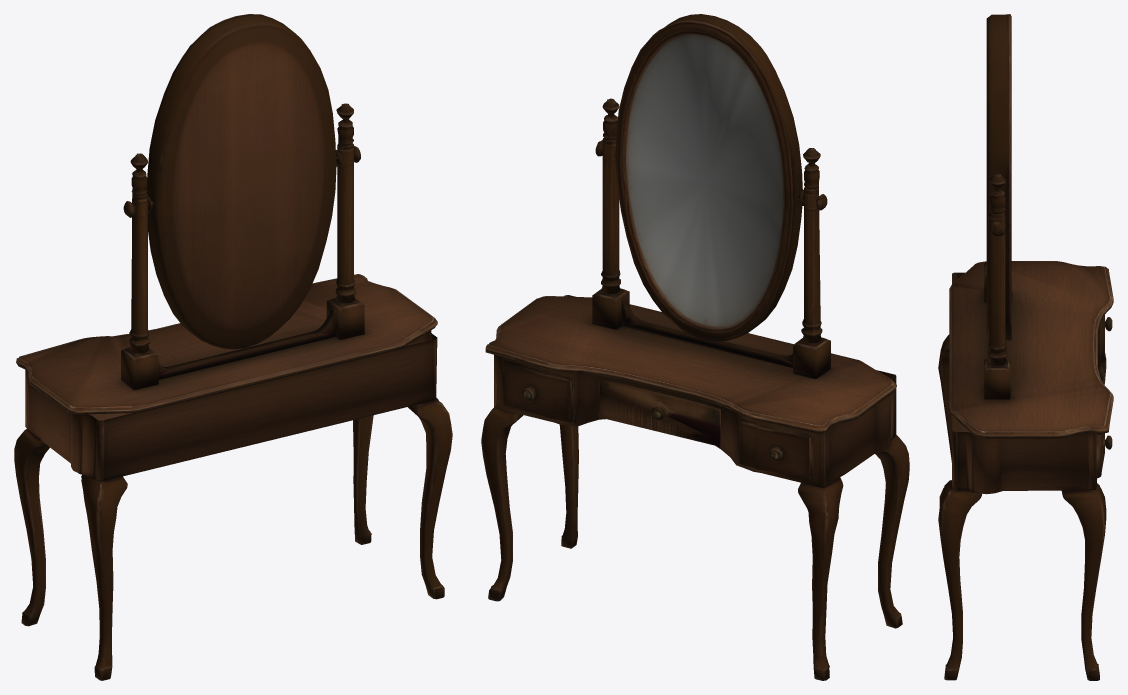
File: vanity-oval-mirror-v01.glb
3 renders of one model, left to right at view 1: azimuth 30°, elevation 25°; view 2: azimuth 150°, elevation 25°; view 3: azimuth 270°, elevation 25°, orthographic. The views are drawn at different scales.
Visible parts, largest first — view 1: tripo_node_4241cdf0-7561-45fa-80f2-d49ba0862418; view 2: tripo_node_4241cdf0-7561-45fa-80f2-d49ba0862418; view 3: tripo_node_4241cdf0-7561-45fa-80f2-d49ba0862418.
Boxes of the visible parts, x1=… form: tripo_node_4241cdf0-7561-45fa-80f2-d49ba0862418: x1=14, y1=14, x2=452, y2=680; tripo_node_4241cdf0-7561-45fa-80f2-d49ba0862418: x1=481, y1=14, x2=909, y2=680; tripo_node_4241cdf0-7561-45fa-80f2-d49ba0862418: x1=938, y1=14, x2=1113, y2=680.
Size of the model in its own units: 1.06 by 1.65 by 0.4553.
1 material, 1 textured.
